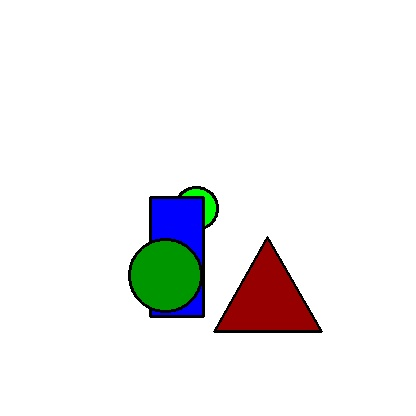circle: (105, 239, 225, 311), (145, 187, 248, 230)
rectangle: (150, 197, 203, 316)
triangle: (214, 237, 321, 331)
